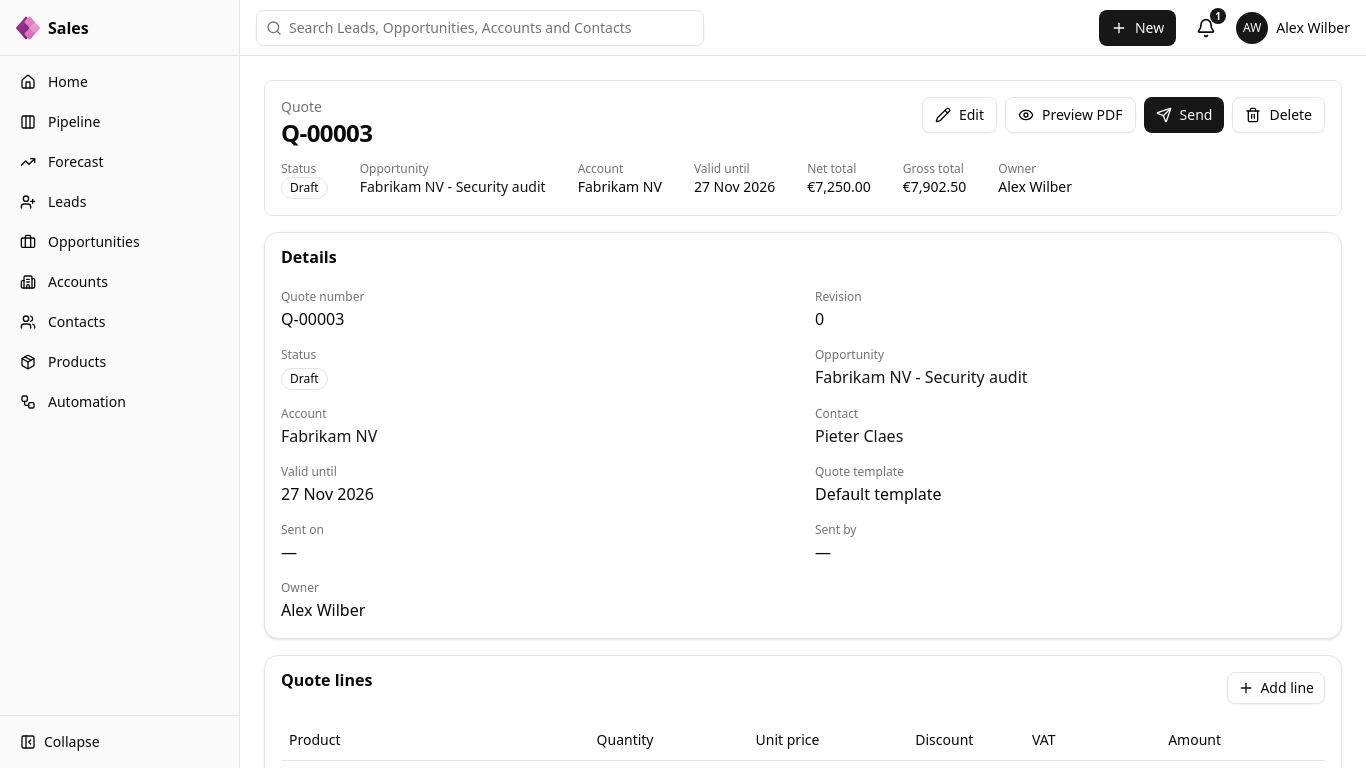
Test: A Draft Quote › is sent: it becomes Sent and loses Edit
The image size is (1366, 768).
What coordinates should you click on to do the following:
click the button "Send"
I would click on:
 (1184, 115)
Its box is [1144,97,1224,133].
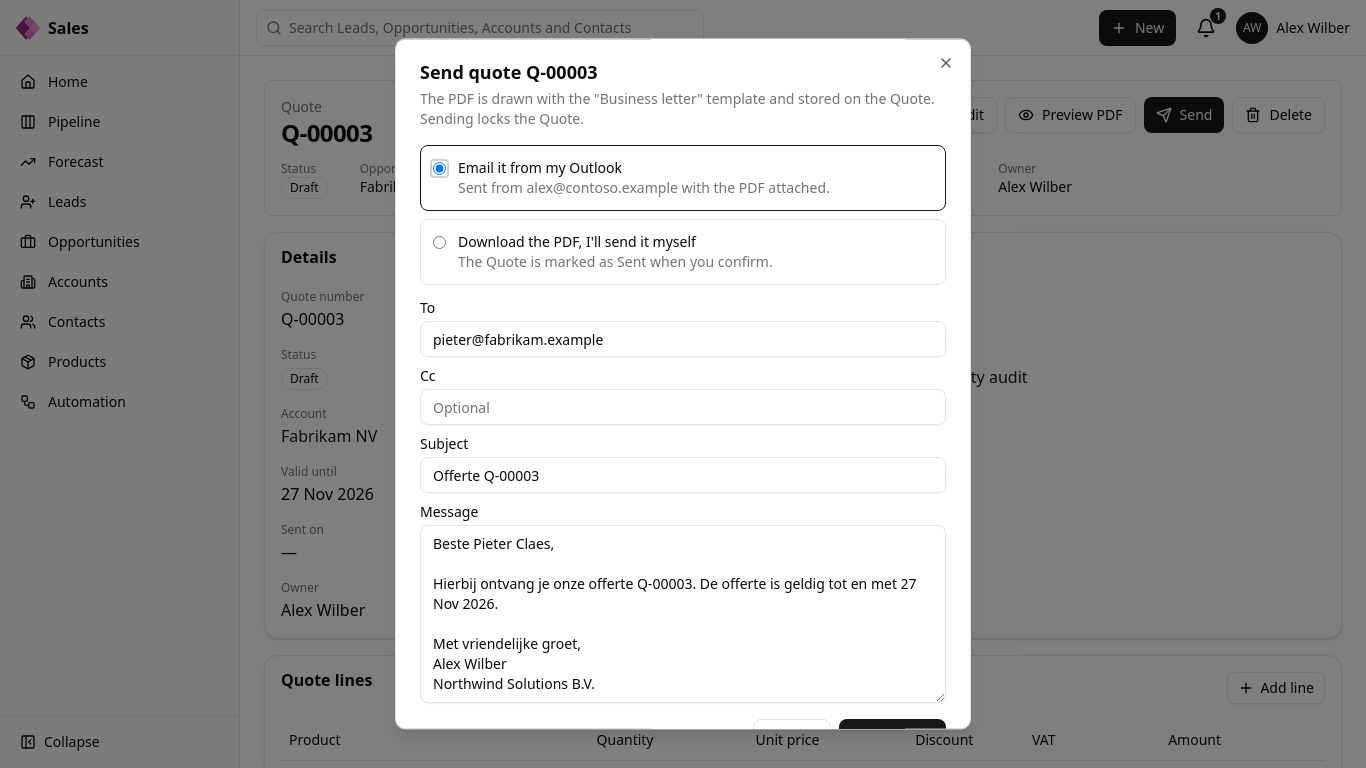
What coordinates should you click on to do the following:
click the radio button labelled "Download the PDF"
I would click on:
 (440, 243)
Its box is [433,236,446,249].
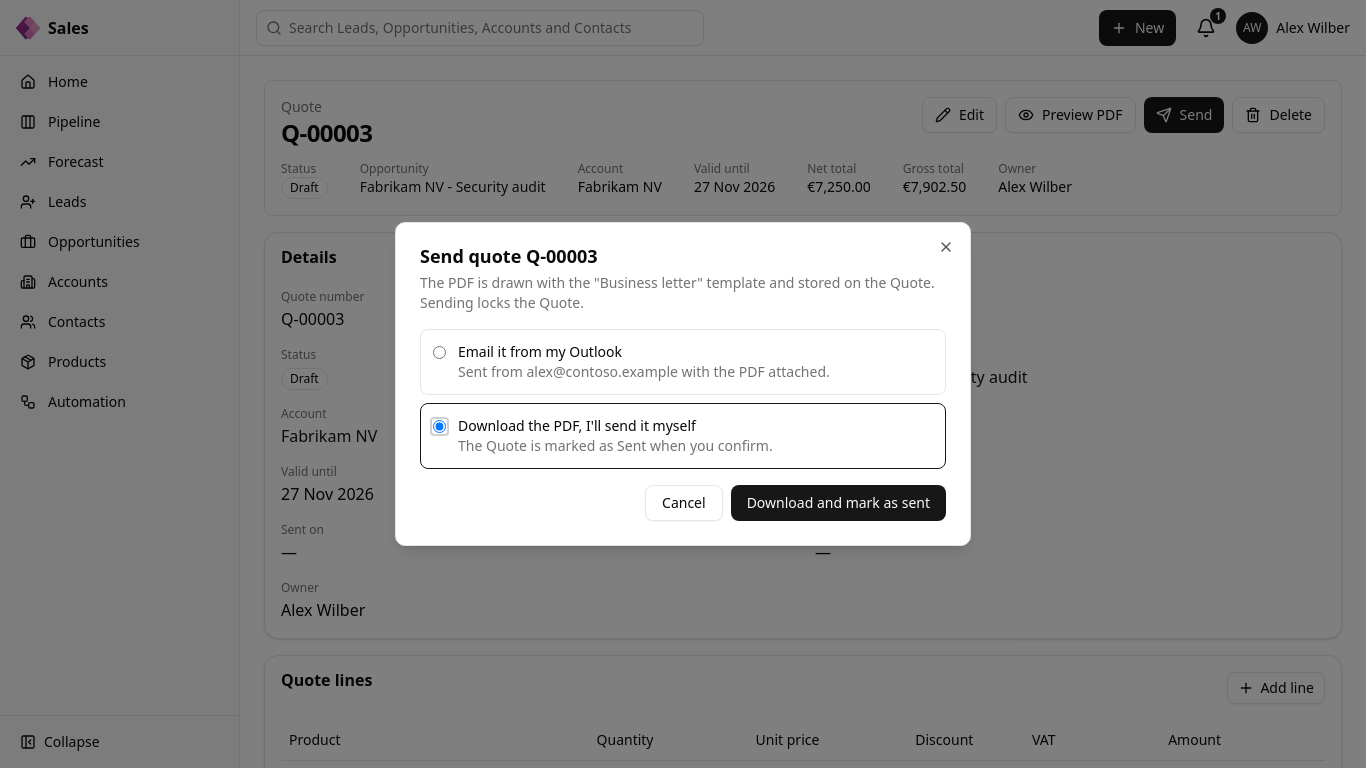
Expected: the button "Download and mark as sent" is enabled
What coordinates should you click on to do the following:
click the button "Download and mark as sent"
I would click on:
 (838, 503)
Its box is [731,485,946,521].
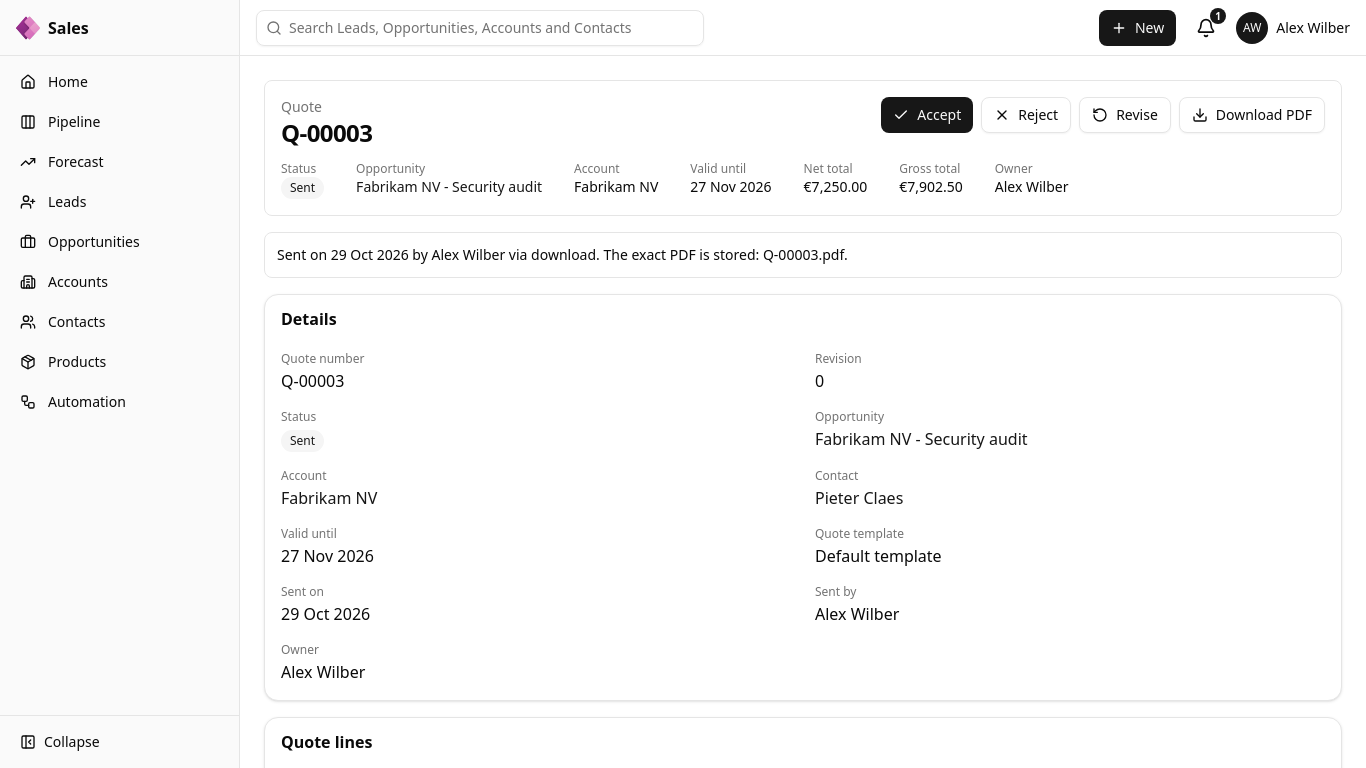
Expected: the text "Sent" in the row of "€7,250.00" is shown, [290,179,315,196]
Expected: the button "Edit" is gone
Expected: the button "Delete" is gone
